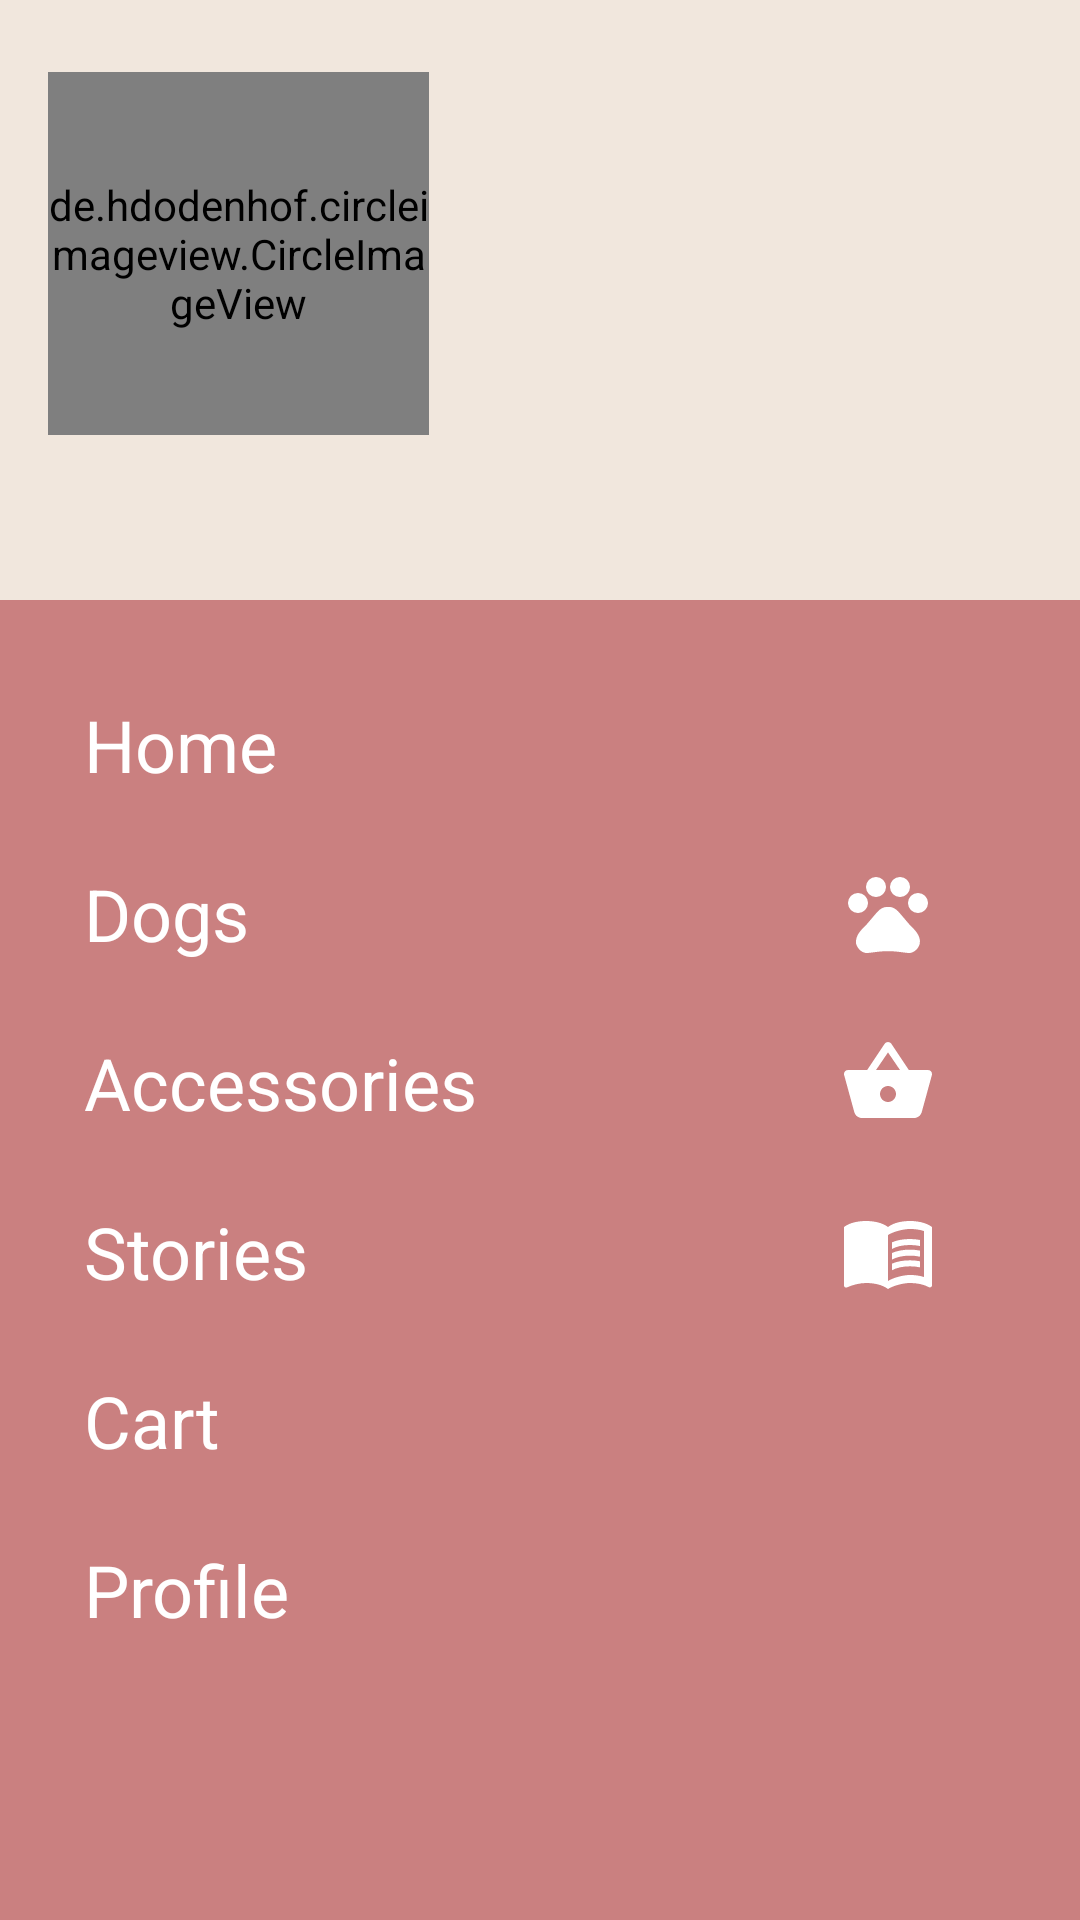

Named icons in this screenshot (1080 x 1920) and their bounding boxes, region(x1, y1, x2, y2):
pet: region(848, 877, 928, 953)
shop: region(844, 1042, 932, 1118)
